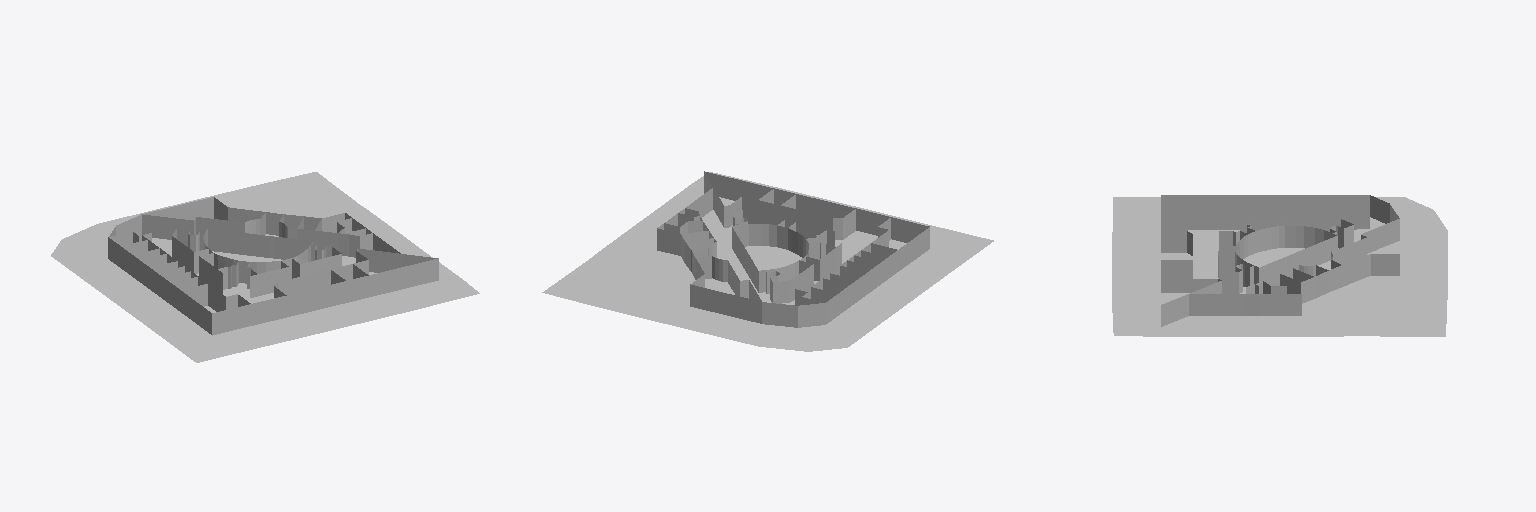
File: swearingen3.obj
3 renders of one model, left to right at view 1: azimuth 30°, elevation 25°; view 2: azimuth 150°, elevation 25°; view 3: azimuth 270°, elevation 25°, orthographic.
Visible parts, largest first — view 1: Walls, Background, Floors; view 2: Walls, Background, Floors; view 3: Walls, Background, Floors.
Part boxes in pixels (x1,y1,x2,y2): Walls: (108, 197, 438, 335); Background: (51, 172, 479, 362); Floors: (152, 234, 376, 312); Walls: (657, 171, 929, 327); Background: (542, 172, 993, 351); Floors: (702, 197, 906, 304); Walls: (1161, 195, 1399, 326); Background: (1112, 197, 1447, 336); Floors: (1161, 217, 1399, 304).
Bounding box in the file's own units: 20.3 × 1.5 × 20.61.